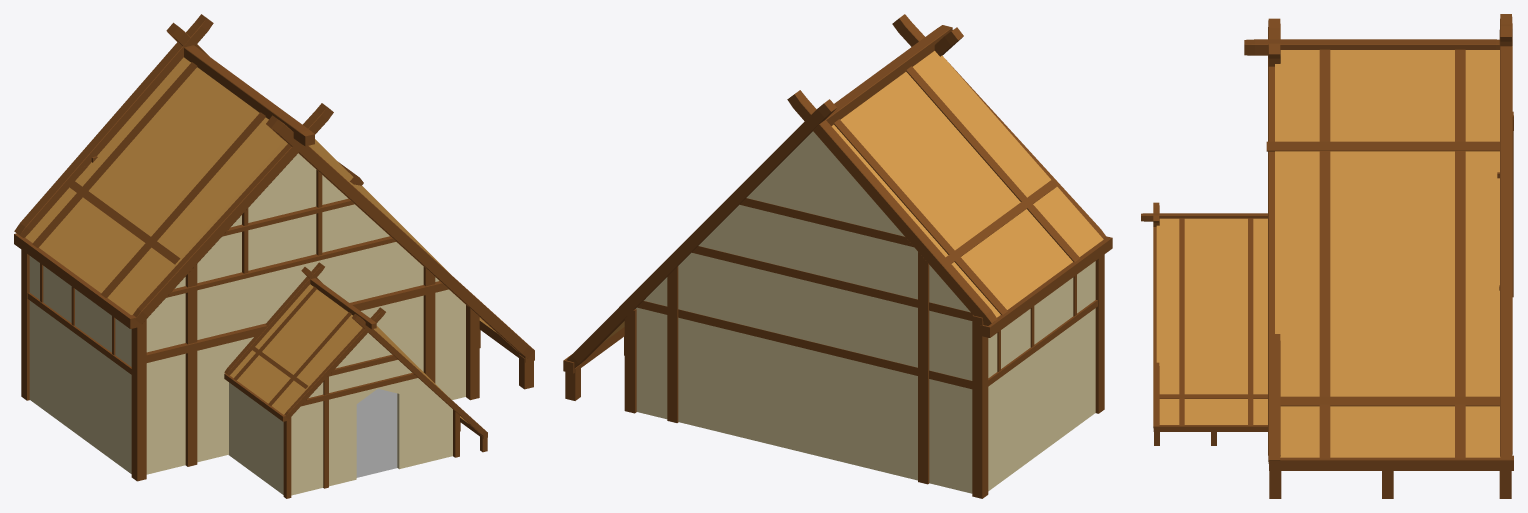
The model's file is house1.fbx.
3 views of the same model, side by side, from view 1: azimuth 30°, elevation 25°; view 2: azimuth 150°, elevation 25°; view 3: azimuth 270°, elevation 25° (orthographic). The views are drawn at different scales.
Parts seen in each view (by area): view 1: Cube.049, Cube.039, Cube, Cube.010, Cube.047, Cube.043, Cube.045, Cube.061, Cube.028, Cube.048, Cube.026, Cube.052 (+18 smaller); view 2: Cube.049, Cube.039, Cube.043, Cube.044, Cube.062, Cube.056, Cube.060, Cube.057, Cube.048, Cube.040, Cube.038, Cube.037 (+7 smaller); view 3: Cube.042, Cube.007, Cube.044, Cube.034, Cube.035, Cube.047, Cube.041, Cube.048, Cube.054, Cube.033, Cube.015, Cube.014 (+4 smaller).
Boxes of the visible parts, box(x1,y1,x2,y2) form: Cube.049: box(29, 153, 465, 474); Cube.039: box(25, 57, 287, 314); Cube: box(229, 333, 452, 495); Cube.010: box(230, 284, 362, 414); Cube.047: box(266, 115, 534, 358); Cube.043: box(14, 14, 213, 237); Cube.045: box(133, 103, 333, 324); Cube.061: box(356, 388, 397, 477); Cube.028: box(131, 319, 146, 481); Cube.048: box(184, 45, 314, 146); Cube.026: box(185, 264, 197, 466); Cube.052: box(146, 281, 448, 362); Cube.049: box(636, 131, 1095, 493); Cube.039: box(831, 51, 1103, 317); Cube.043: box(787, 90, 997, 325); Cube.044: box(566, 99, 836, 368); Cube.062: box(972, 315, 988, 498); Cube.056: box(637, 301, 972, 389); Cube.060: box(918, 252, 929, 484); Cube.057: box(692, 246, 972, 320); Cube.048: box(825, 25, 952, 125); Cube.040: box(980, 236, 1112, 337); Cube.038: box(834, 119, 1007, 314); Cube.037: box(906, 66, 1079, 262); Cube.042: box(1275, 50, 1500, 457); Cube.007: box(1156, 218, 1267, 424); Cube.044: box(1500, 14, 1512, 459); Cube.034: box(1319, 49, 1330, 458); Cube.035: box(1455, 49, 1465, 458); Cube.047: box(1268, 18, 1280, 463); Cube.041: box(1269, 455, 1513, 470); Cube.048: box(1244, 39, 1499, 55); Cube.054: box(1266, 141, 1499, 151); Cube.033: box(1280, 396, 1499, 406); Cube.015: box(1179, 218, 1184, 425); Cube.014: box(1248, 218, 1253, 425).
Bounding box in the file's own units: 1398 × 1127 × 1055.
